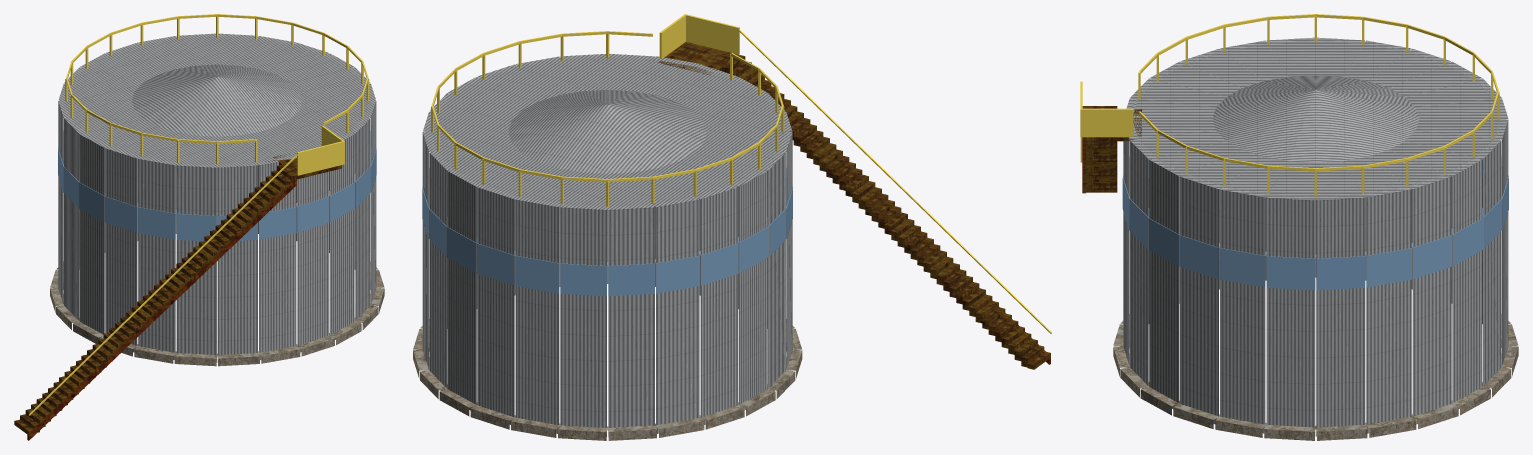
File: ew-tank-grey.zfix-v8.lod0.glb
3 renders of one model, left to right at view 1: azimuth 30°, elevation 25°; view 2: azimuth 150°, elevation 25°; view 3: azimuth 270°, elevation 25°, orthographic. The views are drawn at different scales.
Parts seen in each view (by area): view 1: ew-tank-grey; view 2: ew-tank-grey; view 3: ew-tank-grey.
Boxes of the visible parts, x1,y1,x2,y2 form: ew-tank-grey: (14,14,384,440); ew-tank-grey: (413,14,1051,440); ew-tank-grey: (1080,14,1518,440).
Size of the model in its own units: 20.76 by 10.35 by 15.13.
Materials: 4 (3 with a texture image).
